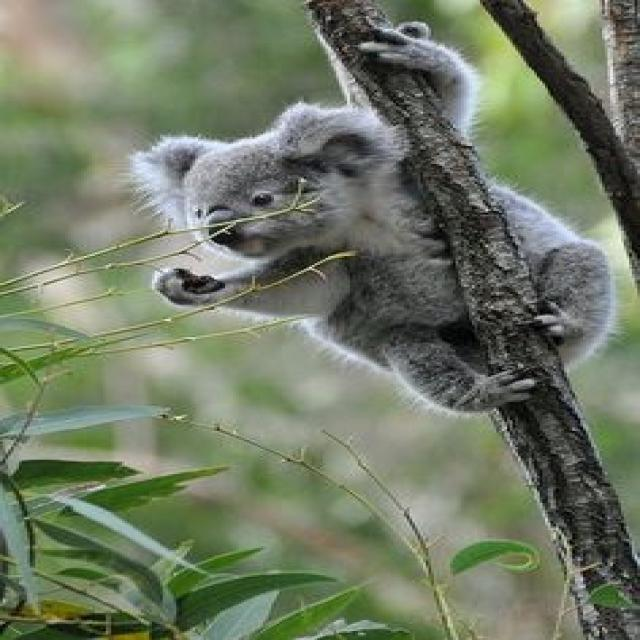Herbivorous: (133, 103, 534, 415), (483, 171, 618, 373), (361, 22, 475, 142)
